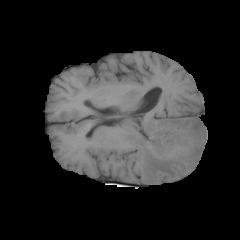glioma: (132, 113, 204, 179)
